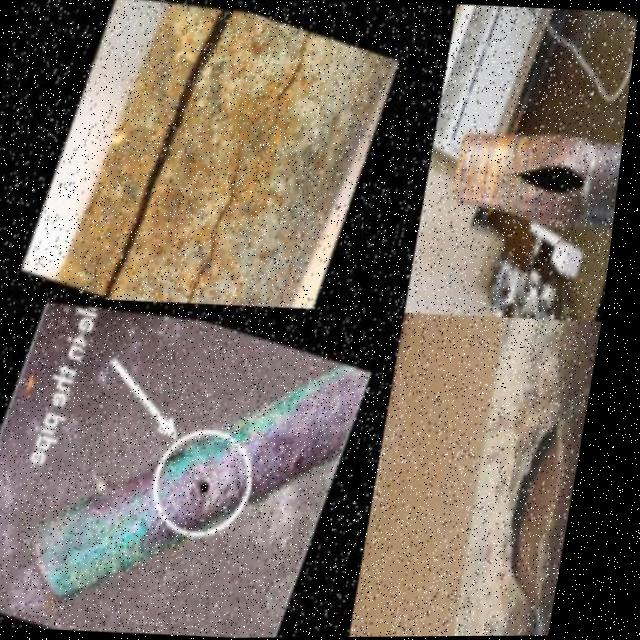crack: (103, 1, 244, 304), (177, 122, 262, 306), (249, 20, 327, 176)
hole: (201, 469, 231, 499)
rupture: (489, 374, 602, 638), (508, 132, 601, 212)
